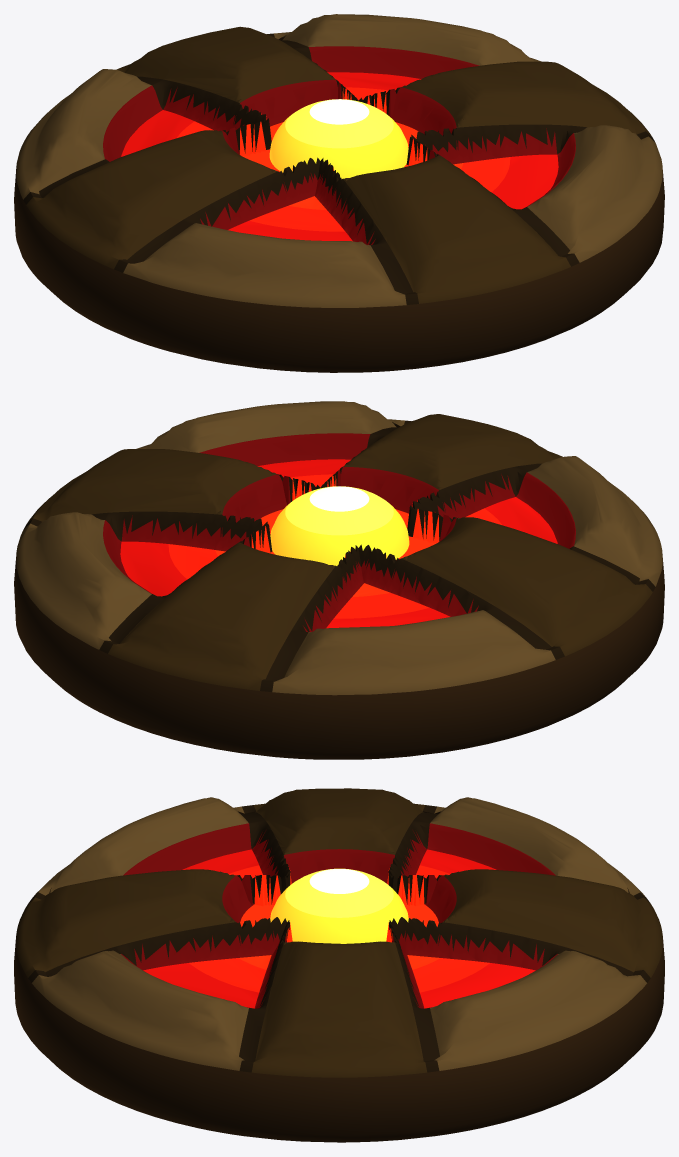
The model's file is disc_spokes_246.glb.
The picture shows the model from 3 angles, top to bottom: view 1: azimuth 30°, elevation 25°; view 2: azimuth 150°, elevation 25°; view 3: azimuth 270°, elevation 25°; orthographic projection.
Parts seen in each view (by area): view 1: disc_spokes_246; view 2: disc_spokes_246; view 3: disc_spokes_246.
Boxes of the visible parts, <box> form: disc_spokes_246: <box>14,14,664,372</box>; disc_spokes_246: <box>14,401,664,759</box>; disc_spokes_246: <box>14,788,664,1142</box>.
Bounding box in the file's own units: 24 × 5.44 × 23.98.
